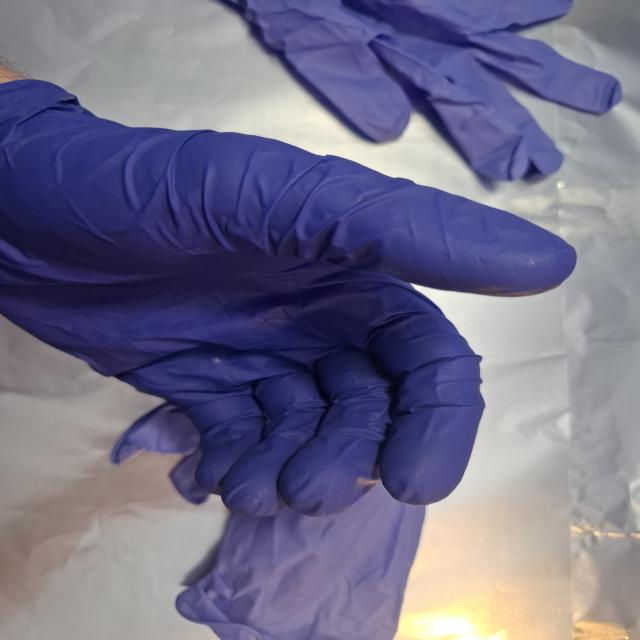glove_on: (0, 77, 585, 522)
